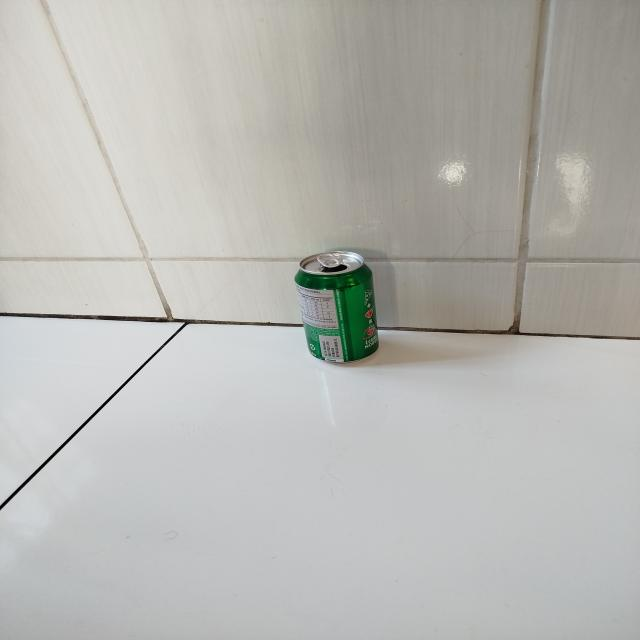Guarana: (295, 250, 377, 364)
